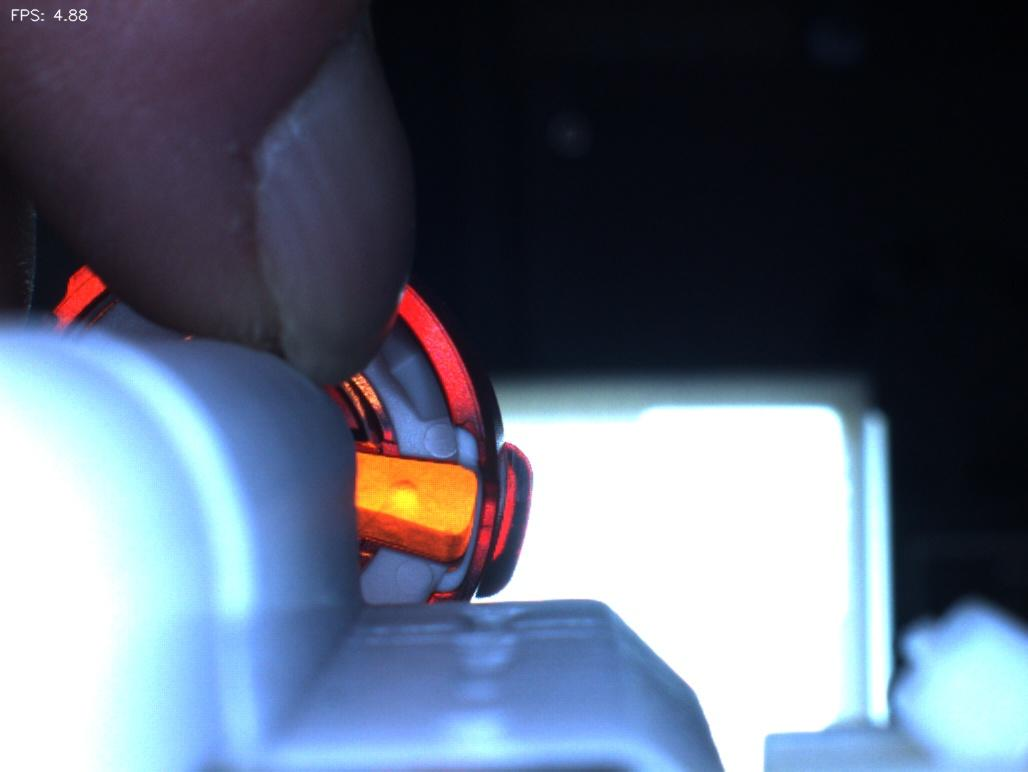Retassure: (363, 465, 437, 531)
